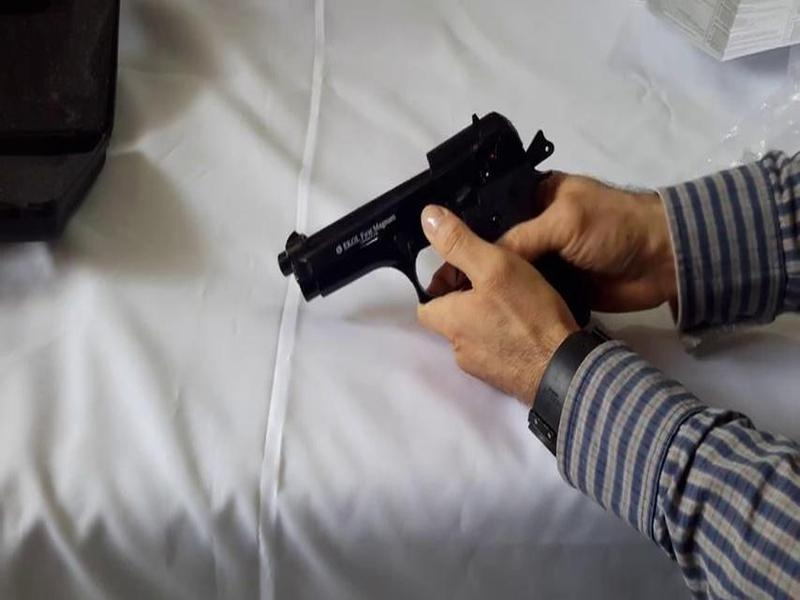Pistola: (246, 114, 621, 349)
